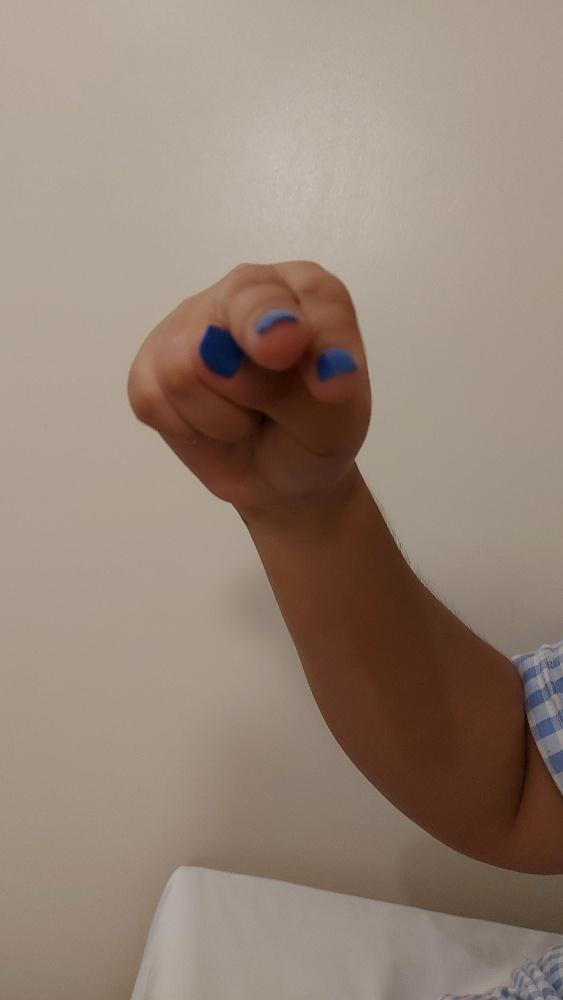n: (124, 257, 375, 508)
